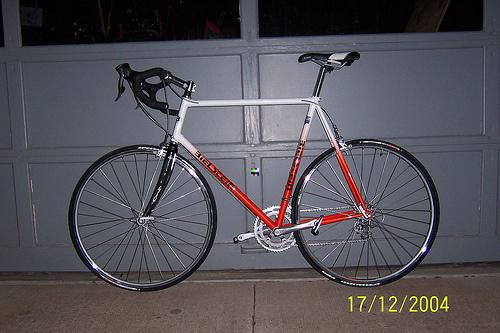car: (67, 52, 444, 293)
